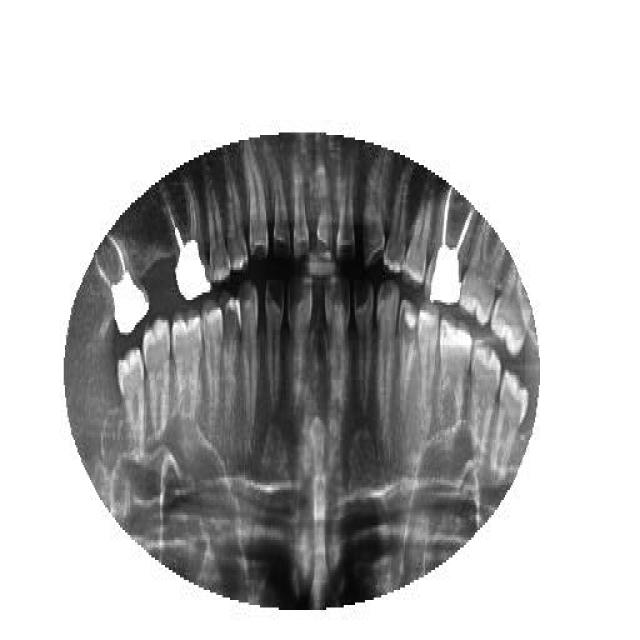Implant: (160, 182, 212, 300), (424, 185, 475, 305), (94, 232, 150, 338)
